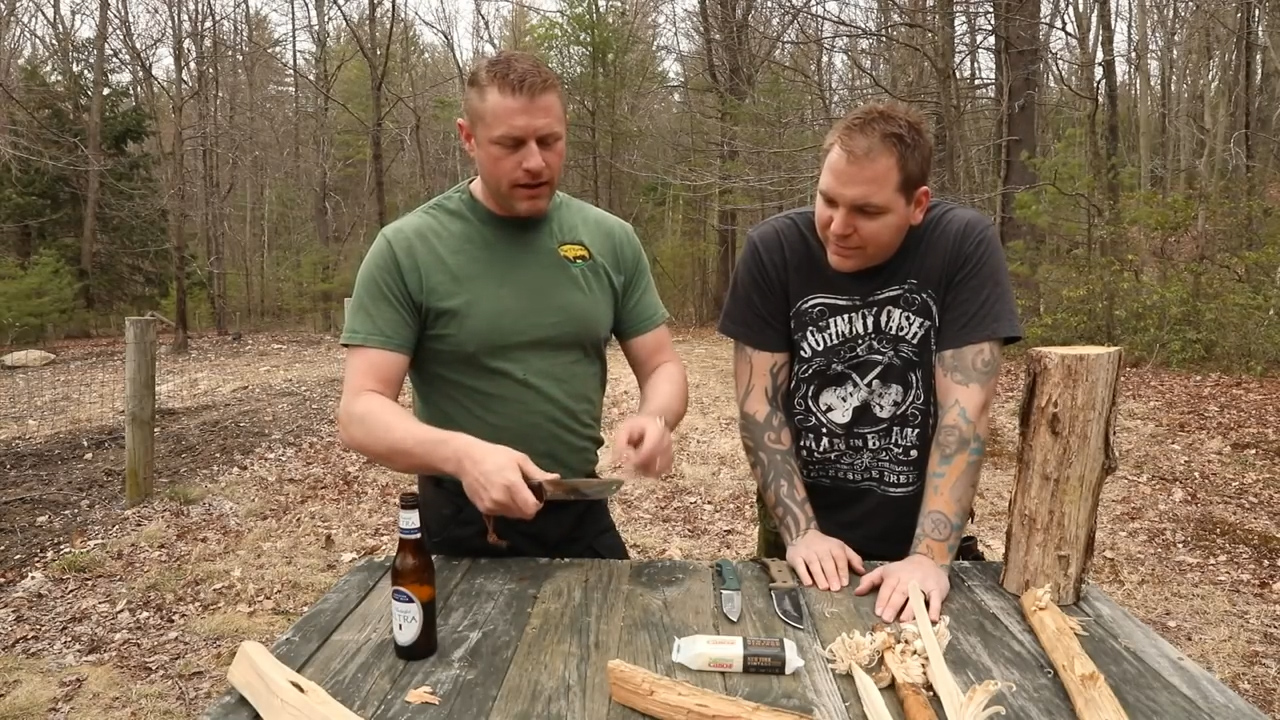knife: (462, 457, 648, 526)
